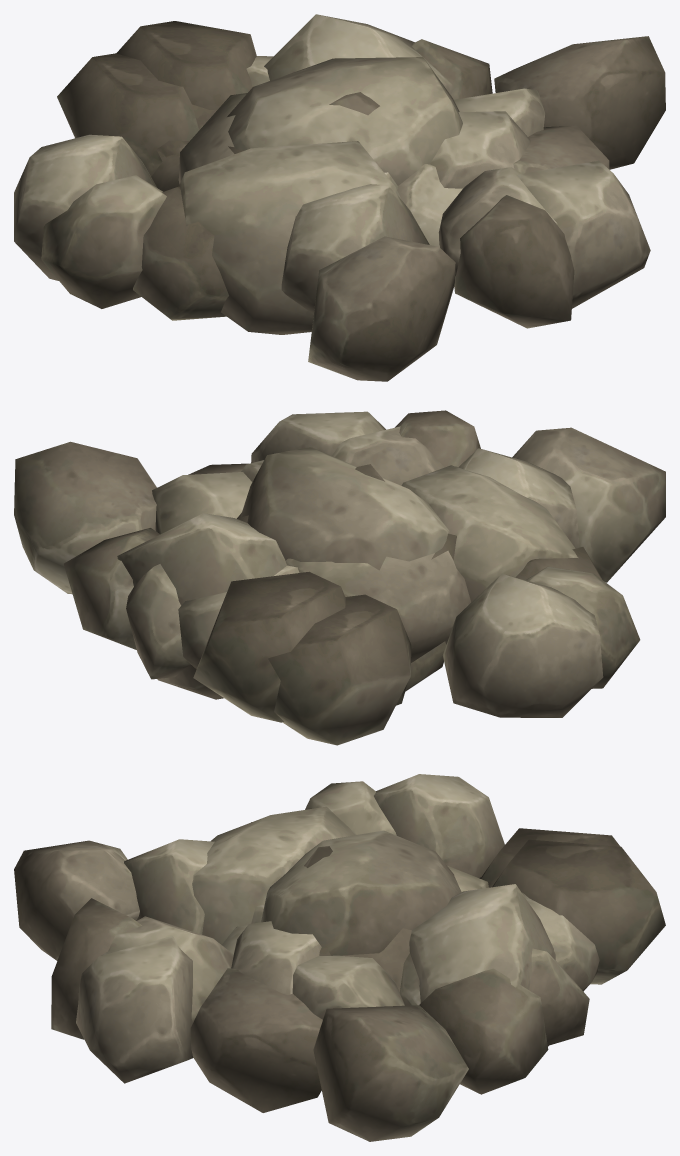
File: rock01.fbx
3 renders of one model, top to bottom at view 1: azimuth 30°, elevation 25°; view 2: azimuth 150°, elevation 25°; view 3: azimuth 270°, elevation 25°, orthographic. The views are drawn at different scales.
Visible parts, largest first — view 1: pebble_group_4, pebble_group_5, pebble_group_1, pebble_group_2, pebble_group_3; view 2: pebble_group_4, pebble_group_5, pebble_group_1, pebble_group_3, pebble_group_2, pebble_4; view 3: pebble_group_4, pebble_group_5, pebble_group_1, pebble_group_2, pebble_group_3.
Boxes of the visible parts, x1,y1,x2,y2 form: pebble_group_4: (14, 36, 665, 381); pebble_group_5: (116, 21, 609, 328); pebble_group_1: (41, 14, 650, 308); pebble_group_2: (228, 111, 530, 314); pebble_group_3: (178, 93, 462, 247); pebble_group_4: (14, 426, 665, 745); pebble_group_5: (126, 410, 603, 722); pebble_group_1: (117, 411, 640, 705); pebble_group_3: (285, 550, 471, 662); pebble_group_2: (241, 448, 579, 575); pebble_4: (405, 641, 446, 691); pebble_group_4: (14, 774, 620, 1141); pebble_group_5: (51, 822, 665, 1112); pebble_group_1: (76, 781, 555, 1083); pebble_group_2: (124, 839, 321, 994); pebble_group_3: (222, 866, 488, 1005).
Bounding box in the file's own units: 1.8 × 0.6316 × 1.66.
